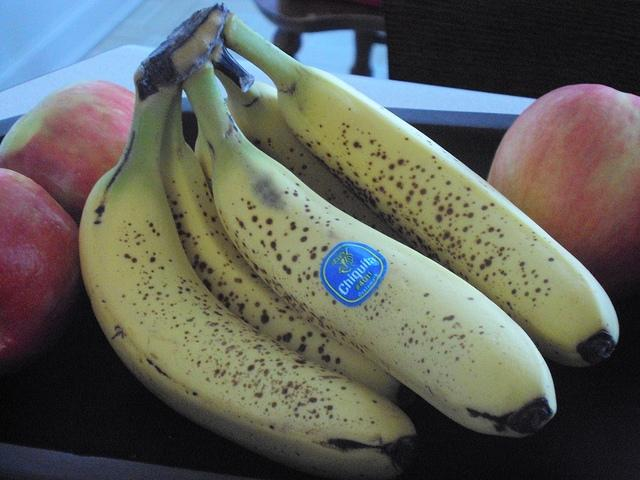apple: (486, 83, 639, 301), (0, 79, 136, 229), (0, 168, 83, 386)
banana: (221, 9, 621, 369), (77, 54, 410, 480), (181, 61, 557, 438), (159, 80, 409, 404), (215, 70, 412, 248)
